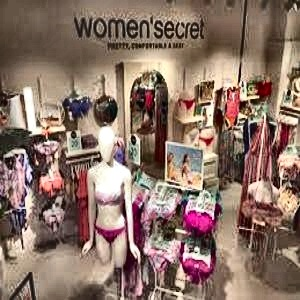women_secret: (176, 6, 244, 19)
